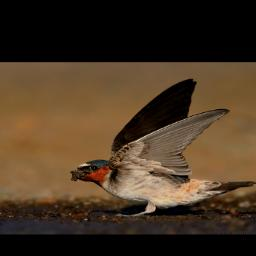Swallow: (69, 78, 256, 218)
